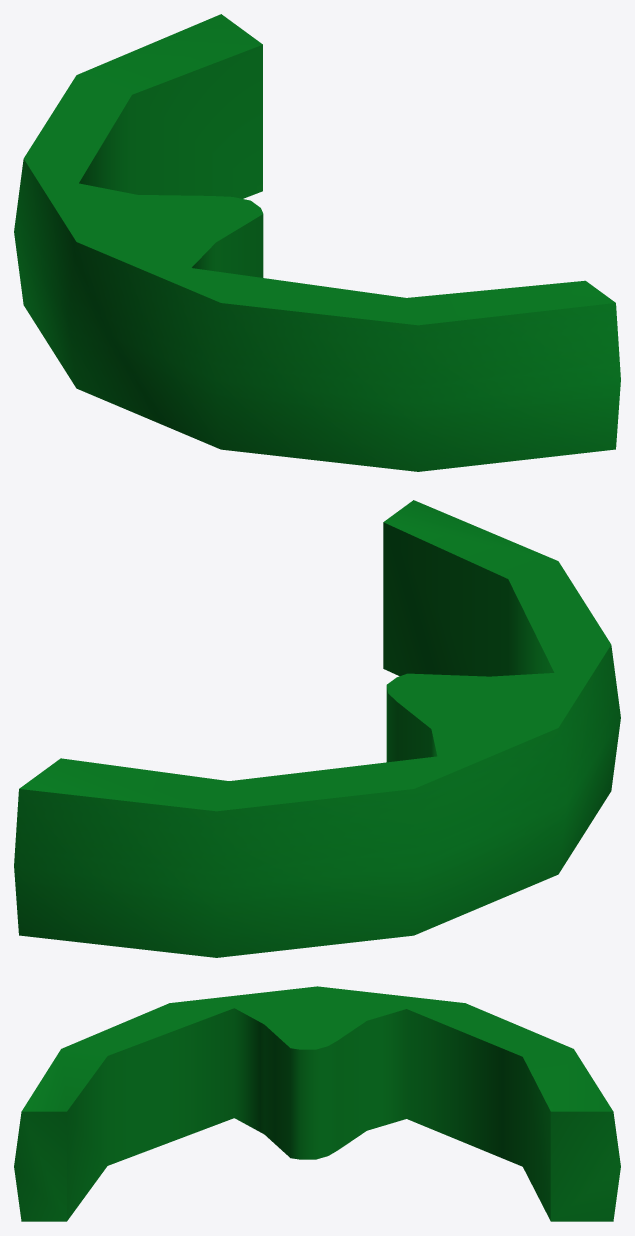
The model's file is Hot_peper_green_slice_half.fbx.
3 views of the same model, one above another, from view 1: azimuth 30°, elevation 25°; view 2: azimuth 150°, elevation 25°; view 3: azimuth 270°, elevation 25° (orthographic). The views are drawn at different scales.
Parts seen in each view (by area): view 1: Hot_peper_green_slice_half; view 2: Hot_peper_green_slice_half; view 3: Hot_peper_green_slice_half.
Boxes of the visible parts, x1,y1,x2,y2 form: Hot_peper_green_slice_half: (14,14,620,471); Hot_peper_green_slice_half: (14,500,620,957); Hot_peper_green_slice_half: (14,986,620,1221).
Bounding box in the file's own units: 18.4 × 36.8 × 7.36.
